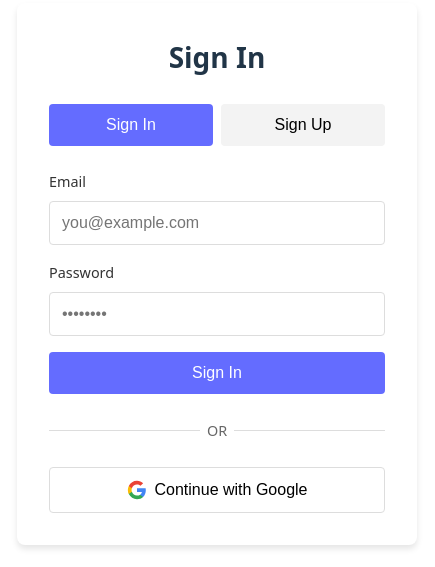
Test: LoginPage › toggles between sign-in and sign-up modes
Note: Click the Sign Up toggle tab (in the auth-mode-toggle div)
What coordinates should you click on to do the following:
click the tab "Sign Up"
I would click on:
 (303, 124)
Its box is [221,104,385,146].
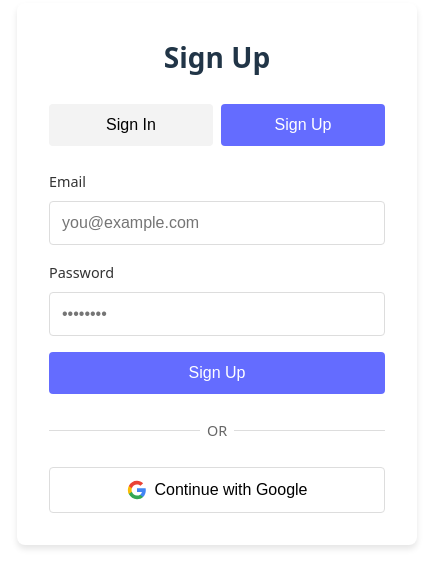
Result: the heading "Sign Up" is shown at [164,38,270,76]
